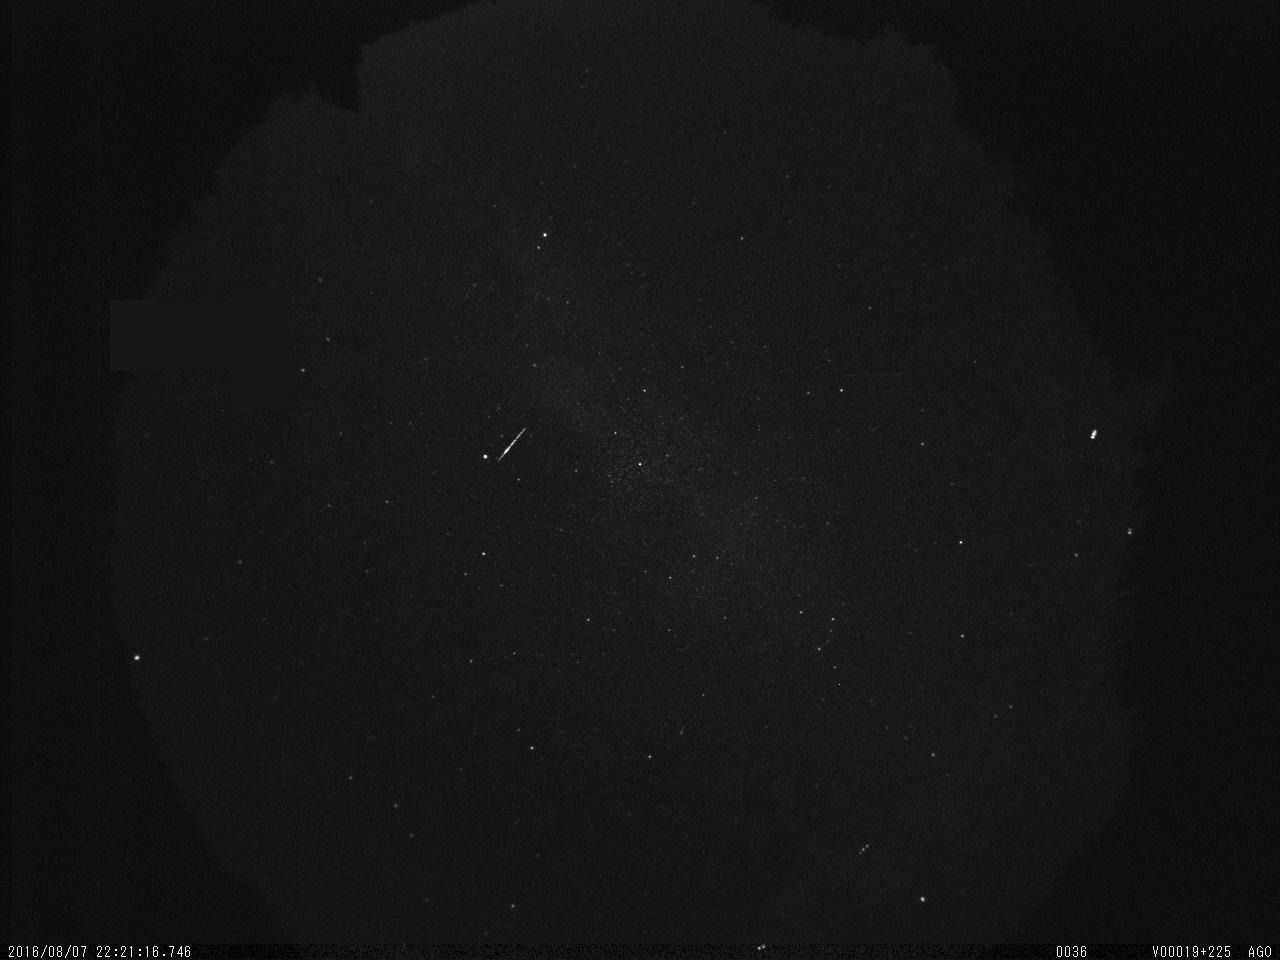meteor: (494, 419, 531, 464)
